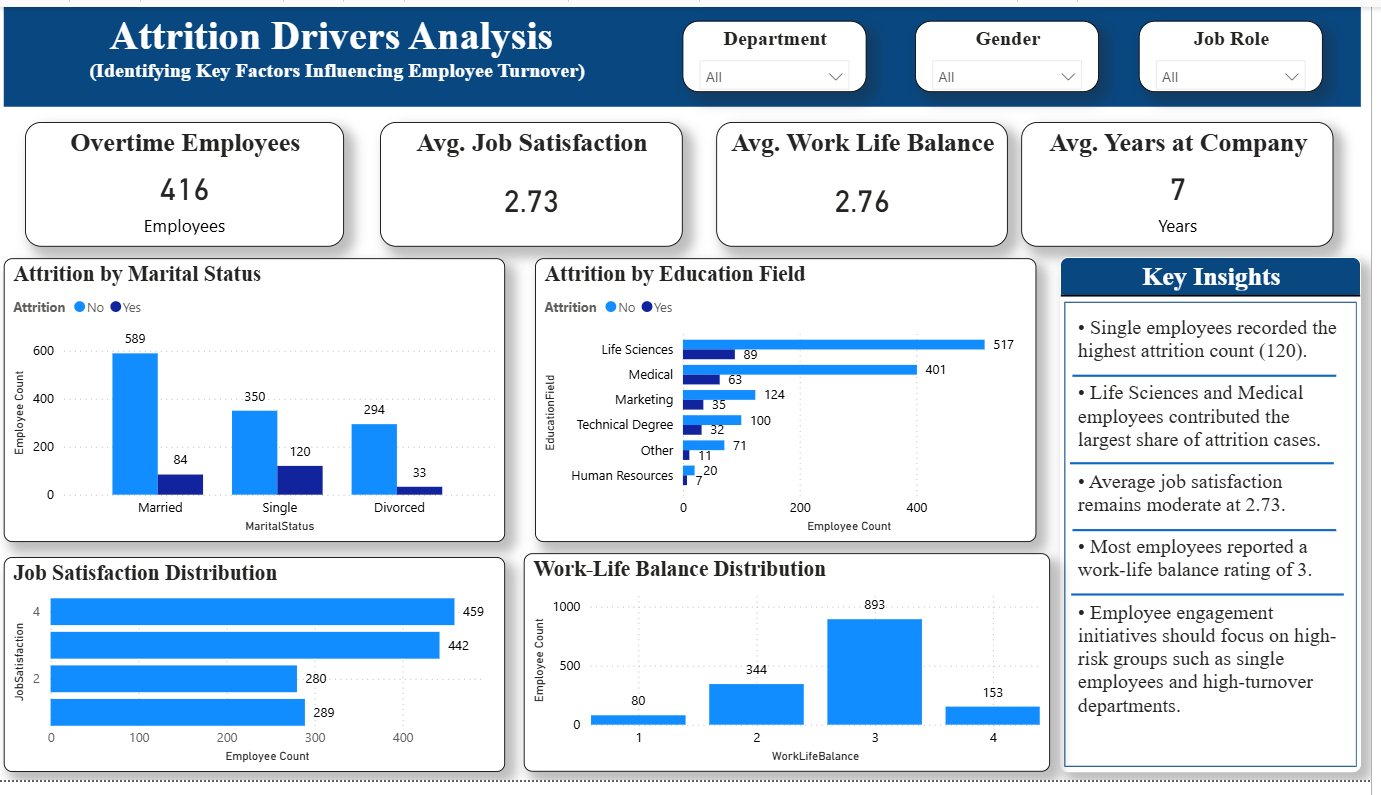

This screenshot's page, from the dashboard's own definition file:
{"tool":"powerbi","page":{"name":"Attrition driver analysis","canvas":[1280,720],"ordinal":1},"visuals":[{"type":"textbox","box":[8.1,0,1262.8,93],"z":0},{"type":"slicer","title":"Department","fields":{"Values":["WA_Fn-UseC_-HR-Employee-Attrition.Department"]},"box":[639.5,12.8,170.9,66.3],"z":1000},{"type":"slicer","title":"Gender","fields":{"Values":["WA_Fn-UseC_-HR-Employee-Attrition.Gender"]},"box":[855.8,12.8,170.9,66.3],"z":2000},{"type":"slicer","title":"Job Role","fields":{"Values":["WA_Fn-UseC_-HR-Employee-Attrition.JobRole"]},"box":[1064,12.8,170.9,66.3],"z":3000},{"type":"card","title":"Overtime Employees","fields":{"Values":["hr_attrition.Overtime Employees"]},"box":[27.9,107,296.5,116.3],"z":4000},{"type":"card","title":"Avg. Job Satisfaction","fields":{"Values":["hr_attrition.Avg Job Satisfaction"]},"box":[358.1,107,281.4,116.3],"z":5000},{"type":"card","title":"Avg. Work Life Balance","fields":{"Values":["hr_attrition.Avg WorkLife Balance"]},"box":[670.9,107,270.9,116.3],"z":6000},{"type":"card","title":"Avg. Years at Company","fields":{"Values":["hr_attrition.Avg Years at Company"]},"box":[954.7,107,290.7,116.3],"z":7000},{"type":"clusteredColumnChart","title":"Attrition by Marital Status","fields":{"Category":["hr_attrition.MaritalStatus"],"Series":["hr_attrition.Attrition"],"Y":["hr_attrition.Employee Count"]},"box":[8.1,233.7,466.3,264],"z":9000},{"type":"clusteredBarChart","title":"Attrition by Education Field","fields":{"Category":["hr_attrition.EducationField"],"Series":["hr_attrition.Attrition"],"Y":["hr_attrition.Employee Count"]},"box":[502.3,233.7,466.3,264],"z":10000},{"type":"clusteredBarChart","title":"Job Satisfaction Distribution","fields":{"Y":["hr_attrition.Employee Count"],"Category":["hr_attrition.JobSatisfaction"]},"box":[8.1,511.6,466.3,200],"z":11000},{"type":"shape","title":"Key Insights   ","box":[990.7,232.6,280.2,479.1],"z":12000},{"type":"textbox","box":[1002.3,282.6,258.1,403.5],"z":13000},{"type":"shape","box":[1001.2,525.6,253.5,41.9],"z":14000},{"type":"shape","box":[1000,382.6,245.3,83.7],"z":15000},{"type":"shape","box":[1002.3,325.6,245.3,34.9],"z":16000},{"type":"shape","box":[1002.3,481.4,245.3,10.5],"z":17000},{"type":"columnChart","title":"Work-Life Balance Distribution","fields":{"Category":["hr_attrition.WorkLifeBalance"],"Y":["hr_attrition.Employee Count"]},"box":[491.9,508.1,489.5,203.5],"z":17001}]}

Visuals, with their boxes in screenshot pixels (x1, y1, x2, y2), scaled from the page's 1280x720 canvas onto the 1381x795 screenshot:
textbox: BBox(9, 0, 1371, 103)
"Department" slicer: BBox(690, 14, 874, 87)
"Gender" slicer: BBox(923, 14, 1108, 87)
"Job Role" slicer: BBox(1148, 14, 1332, 87)
"Overtime Employees" card: BBox(30, 118, 350, 247)
"Avg. Job Satisfaction" card: BBox(386, 118, 690, 247)
"Avg. Work Life Balance" card: BBox(724, 118, 1016, 247)
"Avg. Years at Company" card: BBox(1030, 118, 1344, 247)
"Attrition by Marital Status" clusteredColumnChart: BBox(9, 258, 512, 550)
"Attrition by Education Field" clusteredBarChart: BBox(542, 258, 1045, 550)
"Job Satisfaction Distribution" clusteredBarChart: BBox(9, 565, 512, 786)
"Key Insights   " shape: BBox(1069, 257, 1371, 786)
textbox: BBox(1081, 312, 1360, 758)
shape: BBox(1080, 580, 1354, 627)
shape: BBox(1079, 422, 1344, 515)
shape: BBox(1081, 360, 1346, 398)
shape: BBox(1081, 532, 1346, 543)
"Work-Life Balance Distribution" columnChart: BBox(531, 561, 1059, 786)
